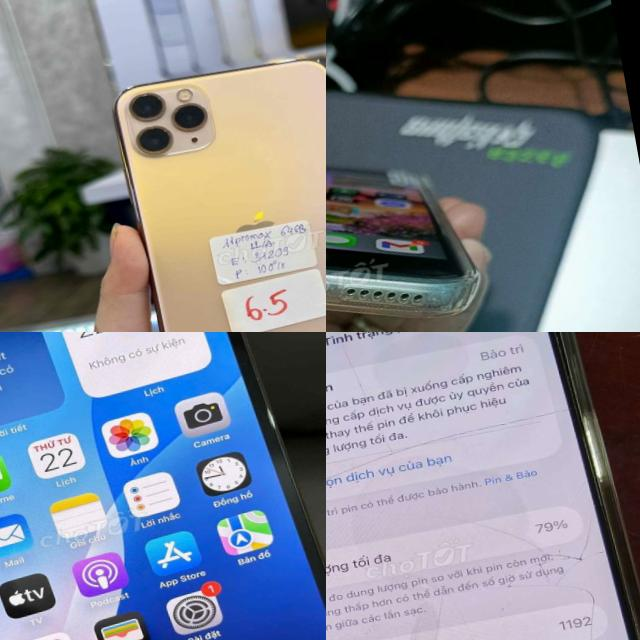screen_defect: (463, 496, 602, 601), (395, 402, 596, 458), (326, 332, 393, 470), (400, 578, 460, 640), (326, 459, 371, 520)
